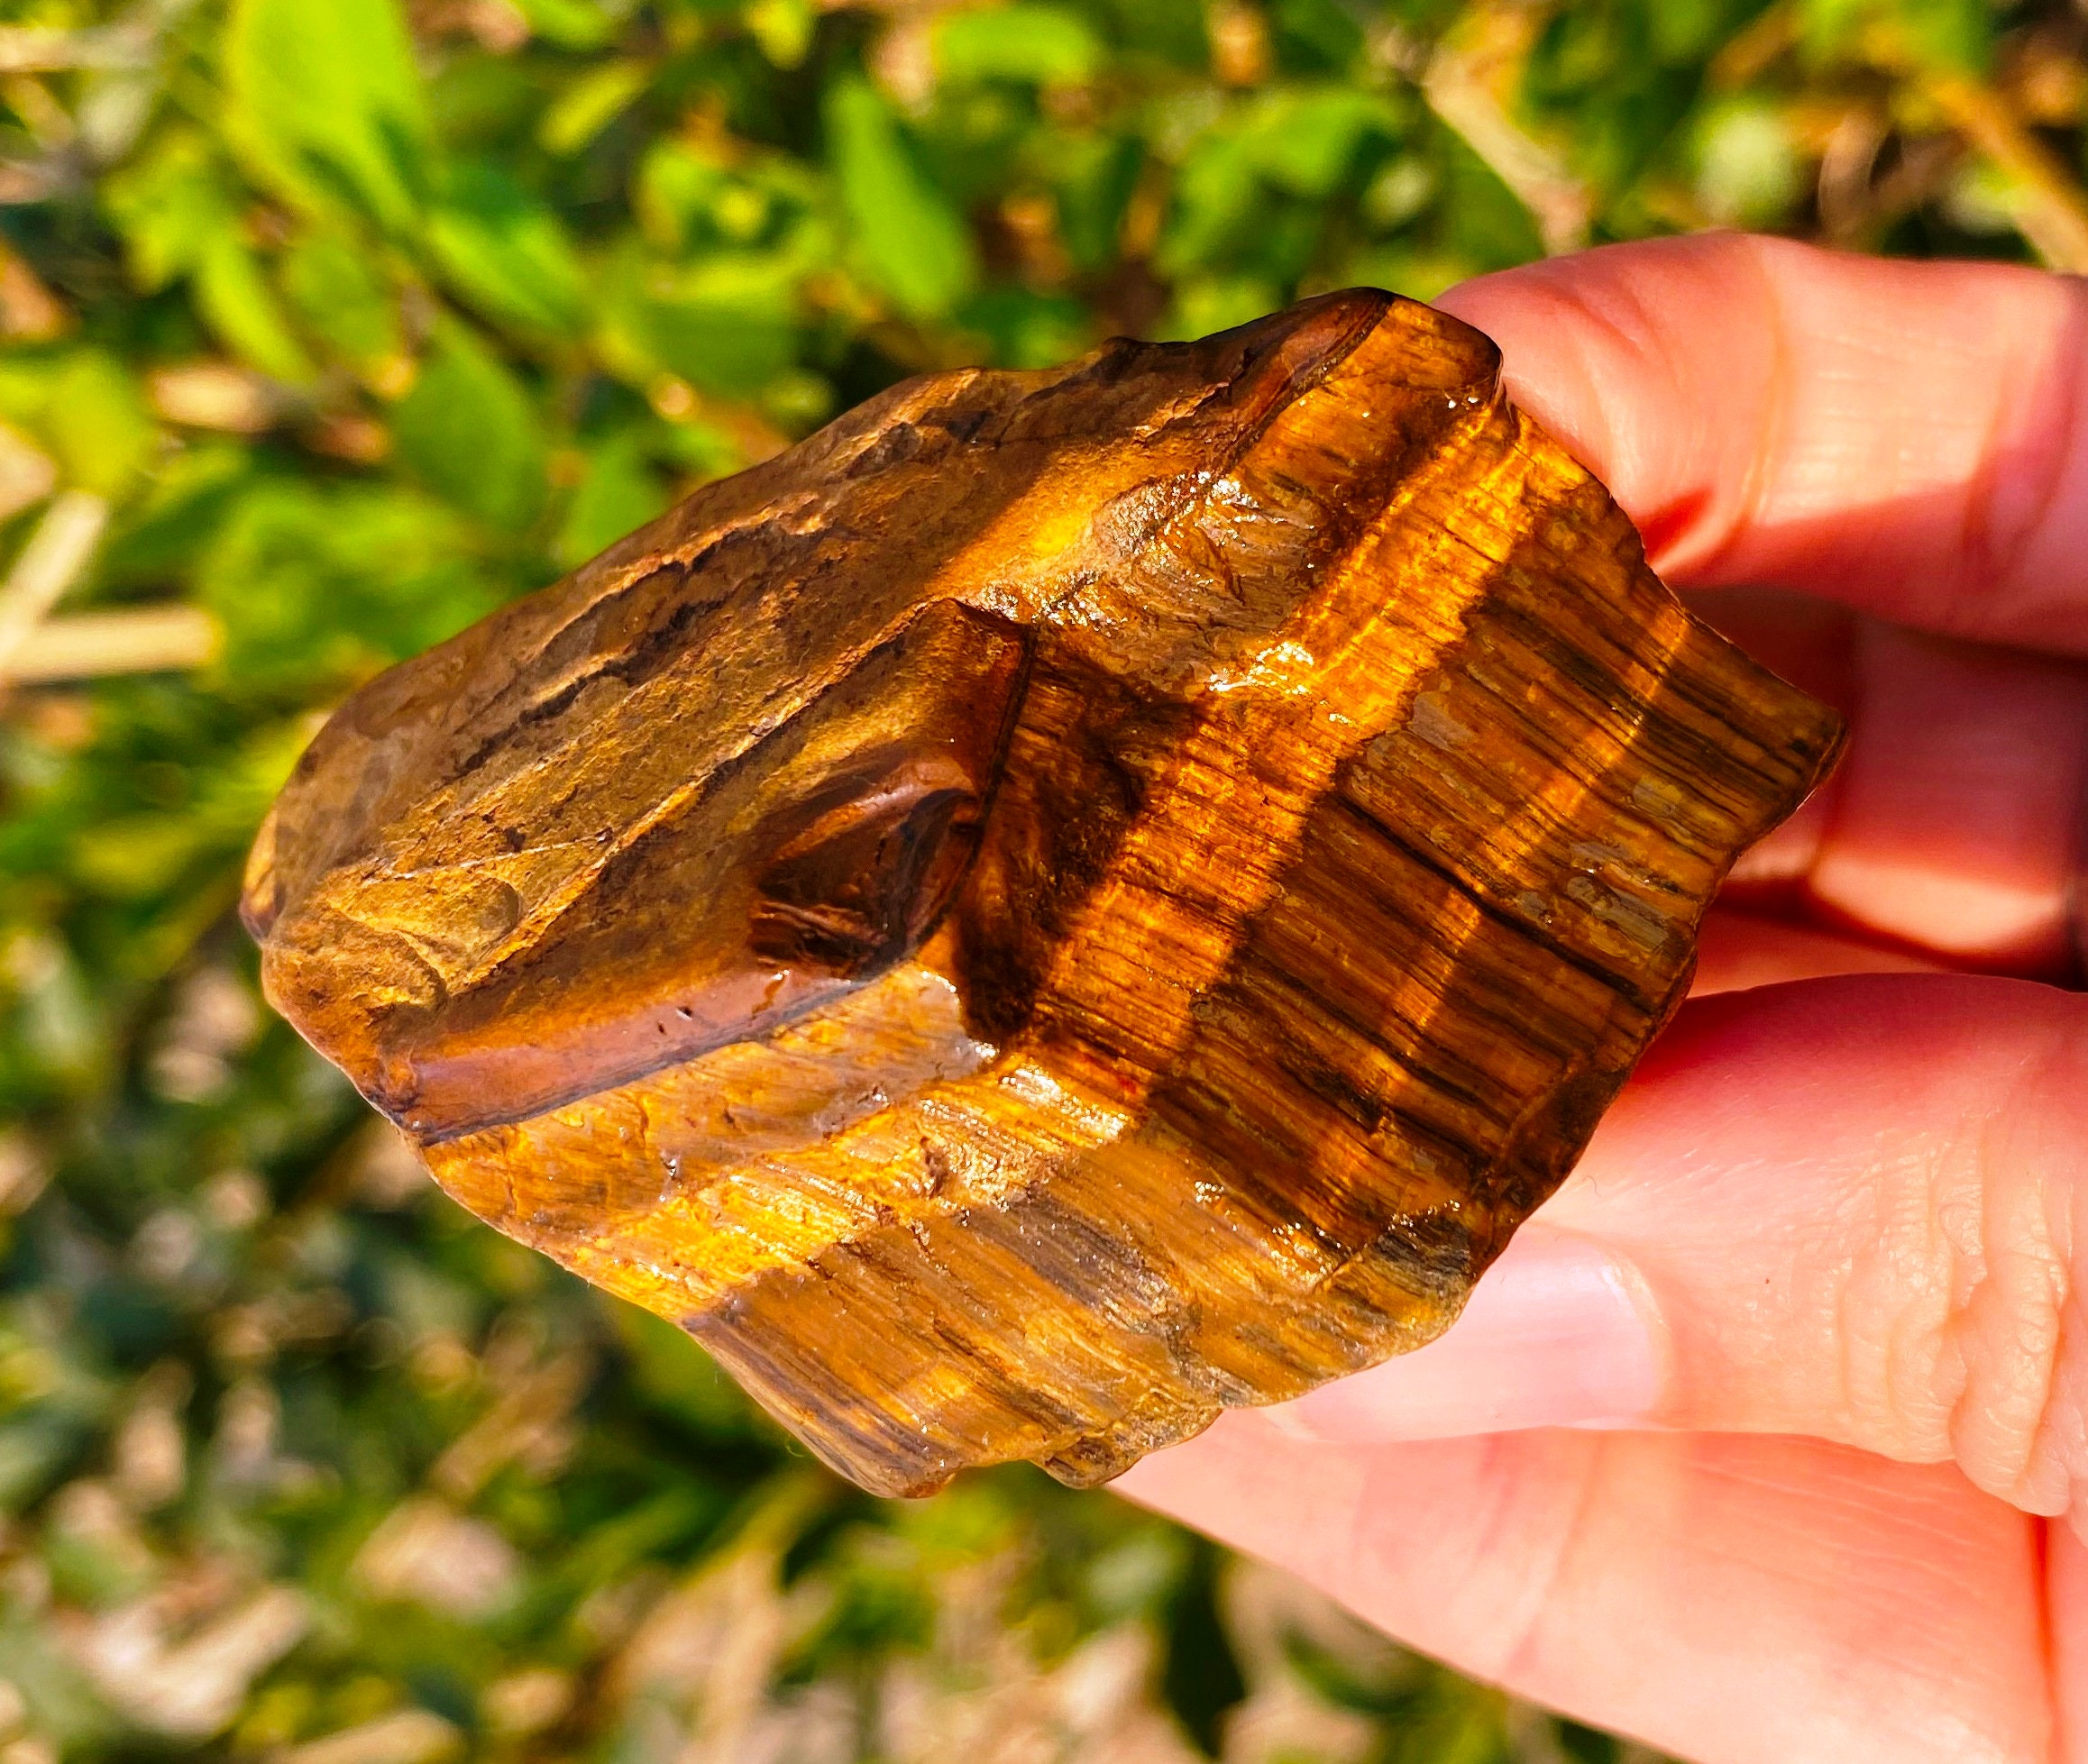Tigers_Eye: (230, 279, 1868, 1496)
